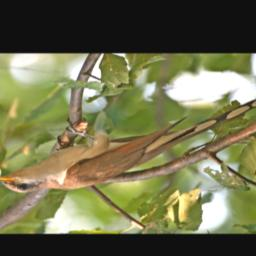Cuckoo: (0, 94, 256, 194)
